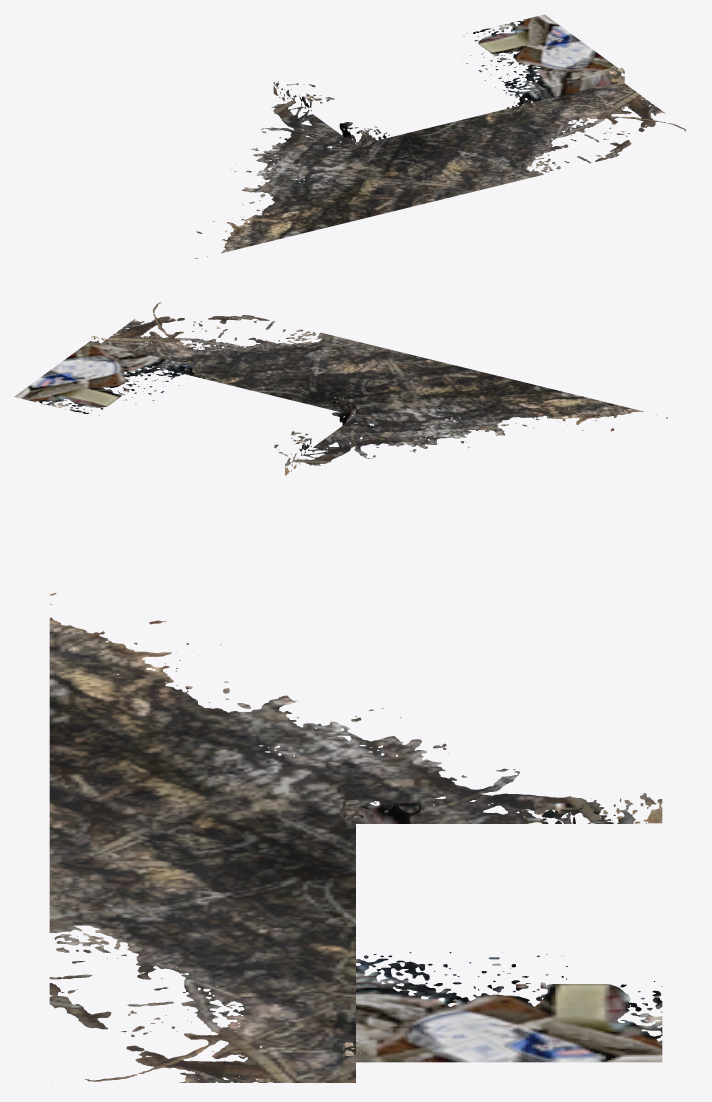
File: RoadSideWalk02.fbx
3 views of the same model, one above another, from view 1: azimuth 30°, elevation 25°; view 2: azimuth 150°, elevation 25°; view 3: azimuth 270°, elevation 25° (orthographic). The views are drawn at different scales.
Parts seen in each view (by area): view 1: RoadSideWalk02; view 2: RoadSideWalk02; view 3: RoadSideWalk02.
Boxes of the visible parts, x1,y1,x2,y2 form: RoadSideWalk02: [194, 14, 686, 258]; RoadSideWalk02: [14, 302, 667, 475]; RoadSideWalk02: [49, 593, 662, 1082].
Size of the model in its own units: 800 by 23.07 by 400.
